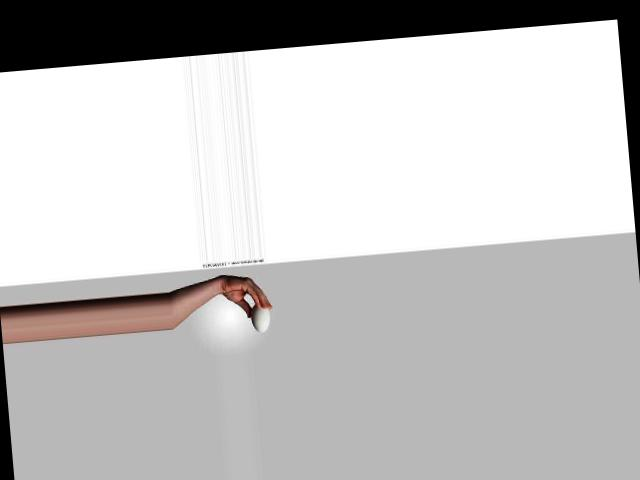egg: (249, 302, 271, 333)
